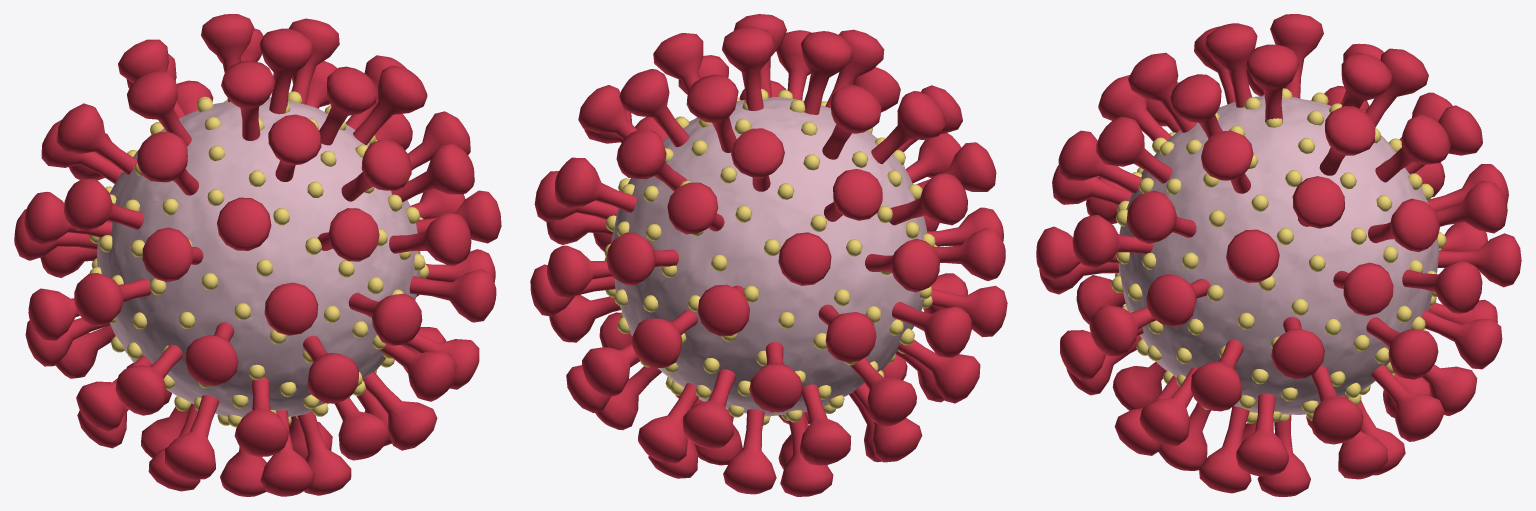
The model's file is spiked-virus.glb.
3 views of the same model, side by side, from view 1: azimuth 30°, elevation 25°; view 2: azimuth 150°, elevation 25°; view 3: azimuth 270°, elevation 25° (orthographic).
Parts seen in each view (by area): view 1: Spiked_Virus; view 2: Spiked_Virus; view 3: Spiked_Virus.
Part boxes in pixels (left/top/right/bottom): Spiked_Virus: left=14, top=14, right=501, bottom=496; Spiked_Virus: left=530, top=14, right=1007, bottom=496; Spiked_Virus: left=1036, top=14, right=1521, bottom=496.
Bounding box in the file's own units: 0.6076 × 0.6063 × 0.6089.
